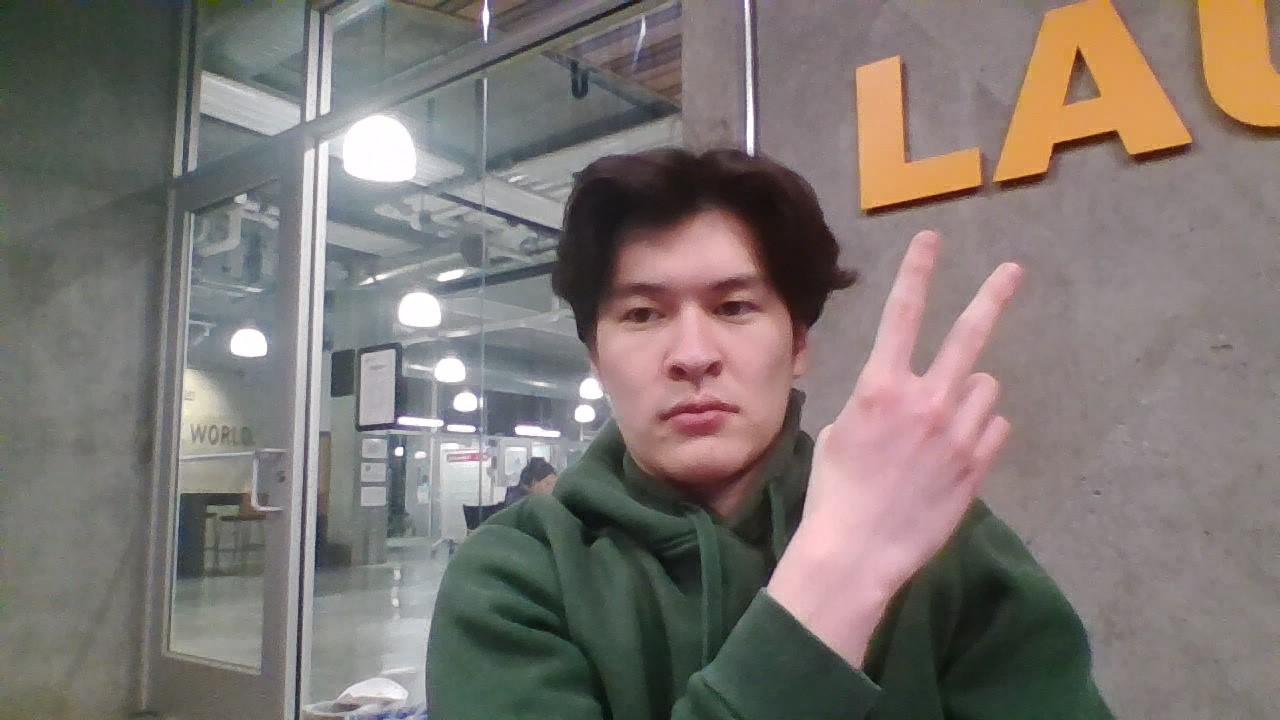peace: (807, 226, 1027, 554)
